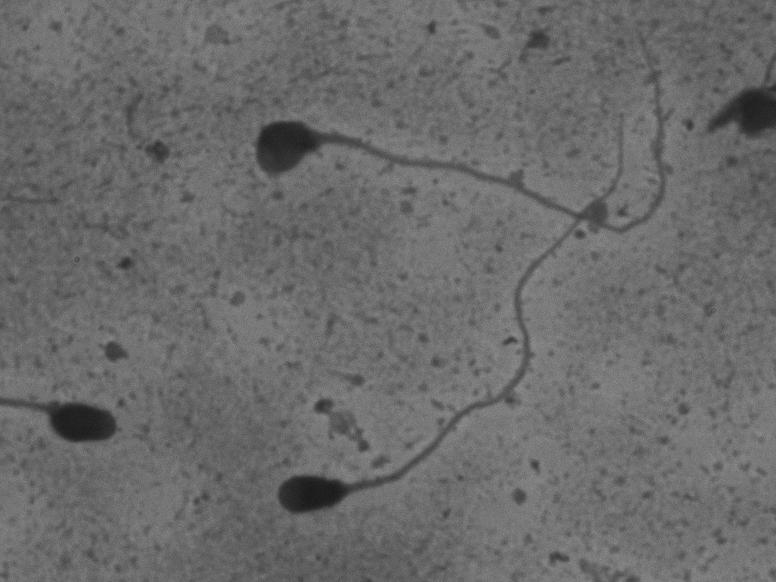Abnormal: (263, 105, 631, 521), (237, 39, 716, 250)
